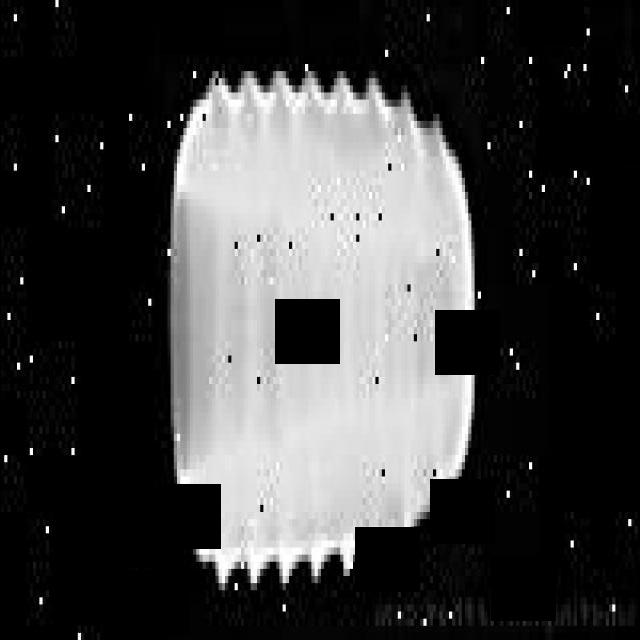Titan Implant Implant: (163, 65, 488, 585)
